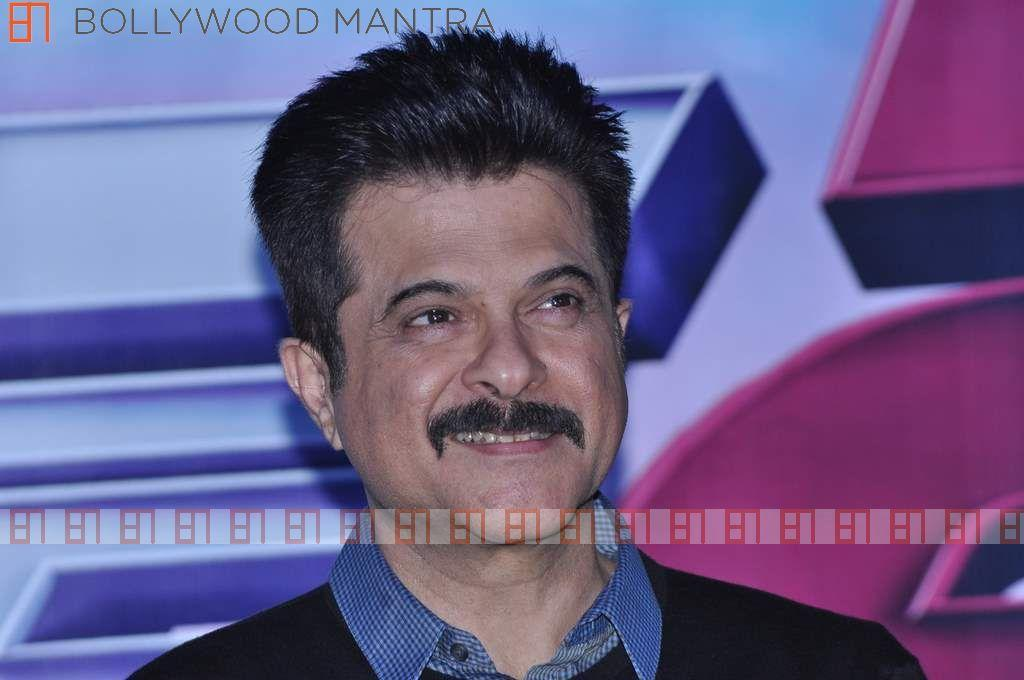face: (333, 173, 627, 545)
